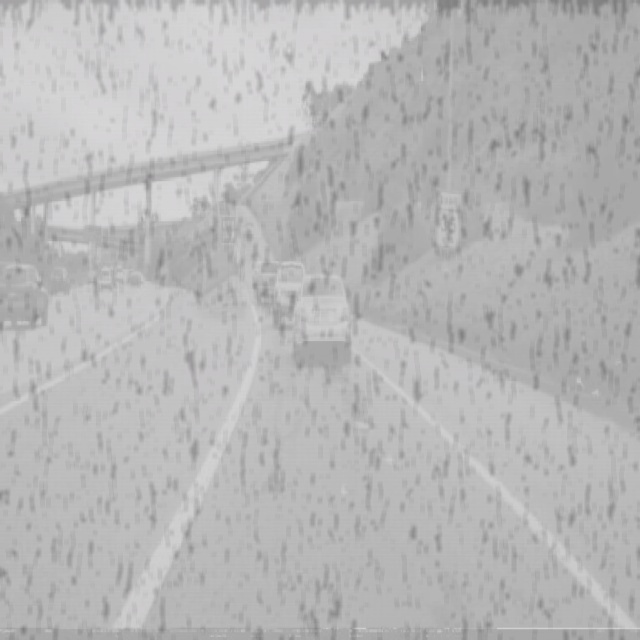rampSpeedAdvisory35: (434, 189, 461, 251)
